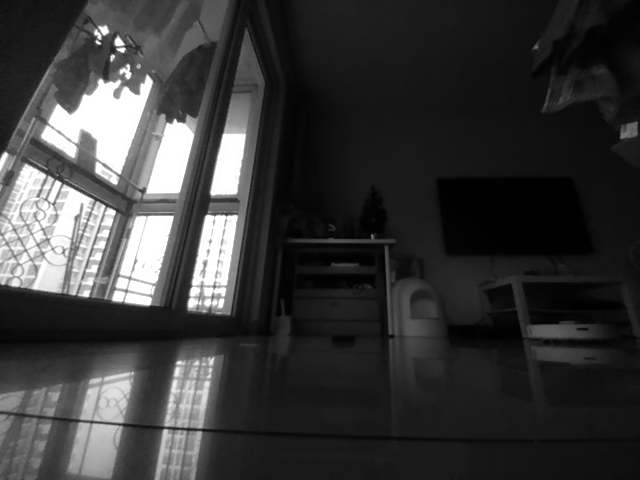pet feces: (331, 333, 354, 349)
